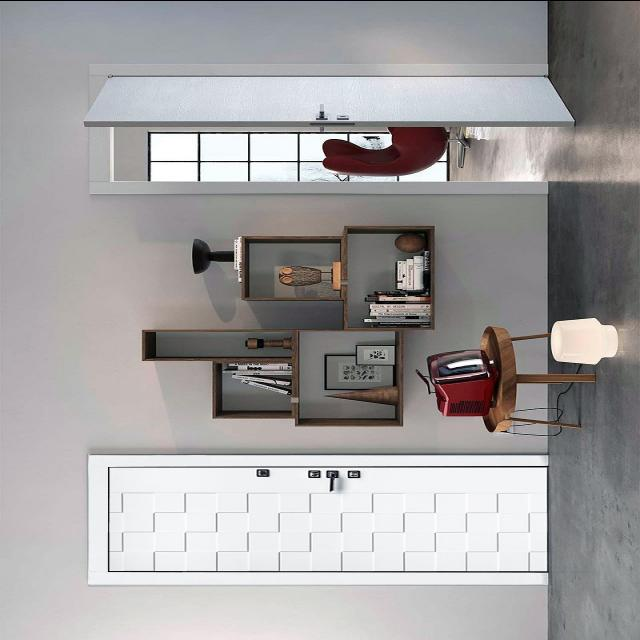close: (97, 452, 557, 582)
open: (98, 63, 572, 190)
